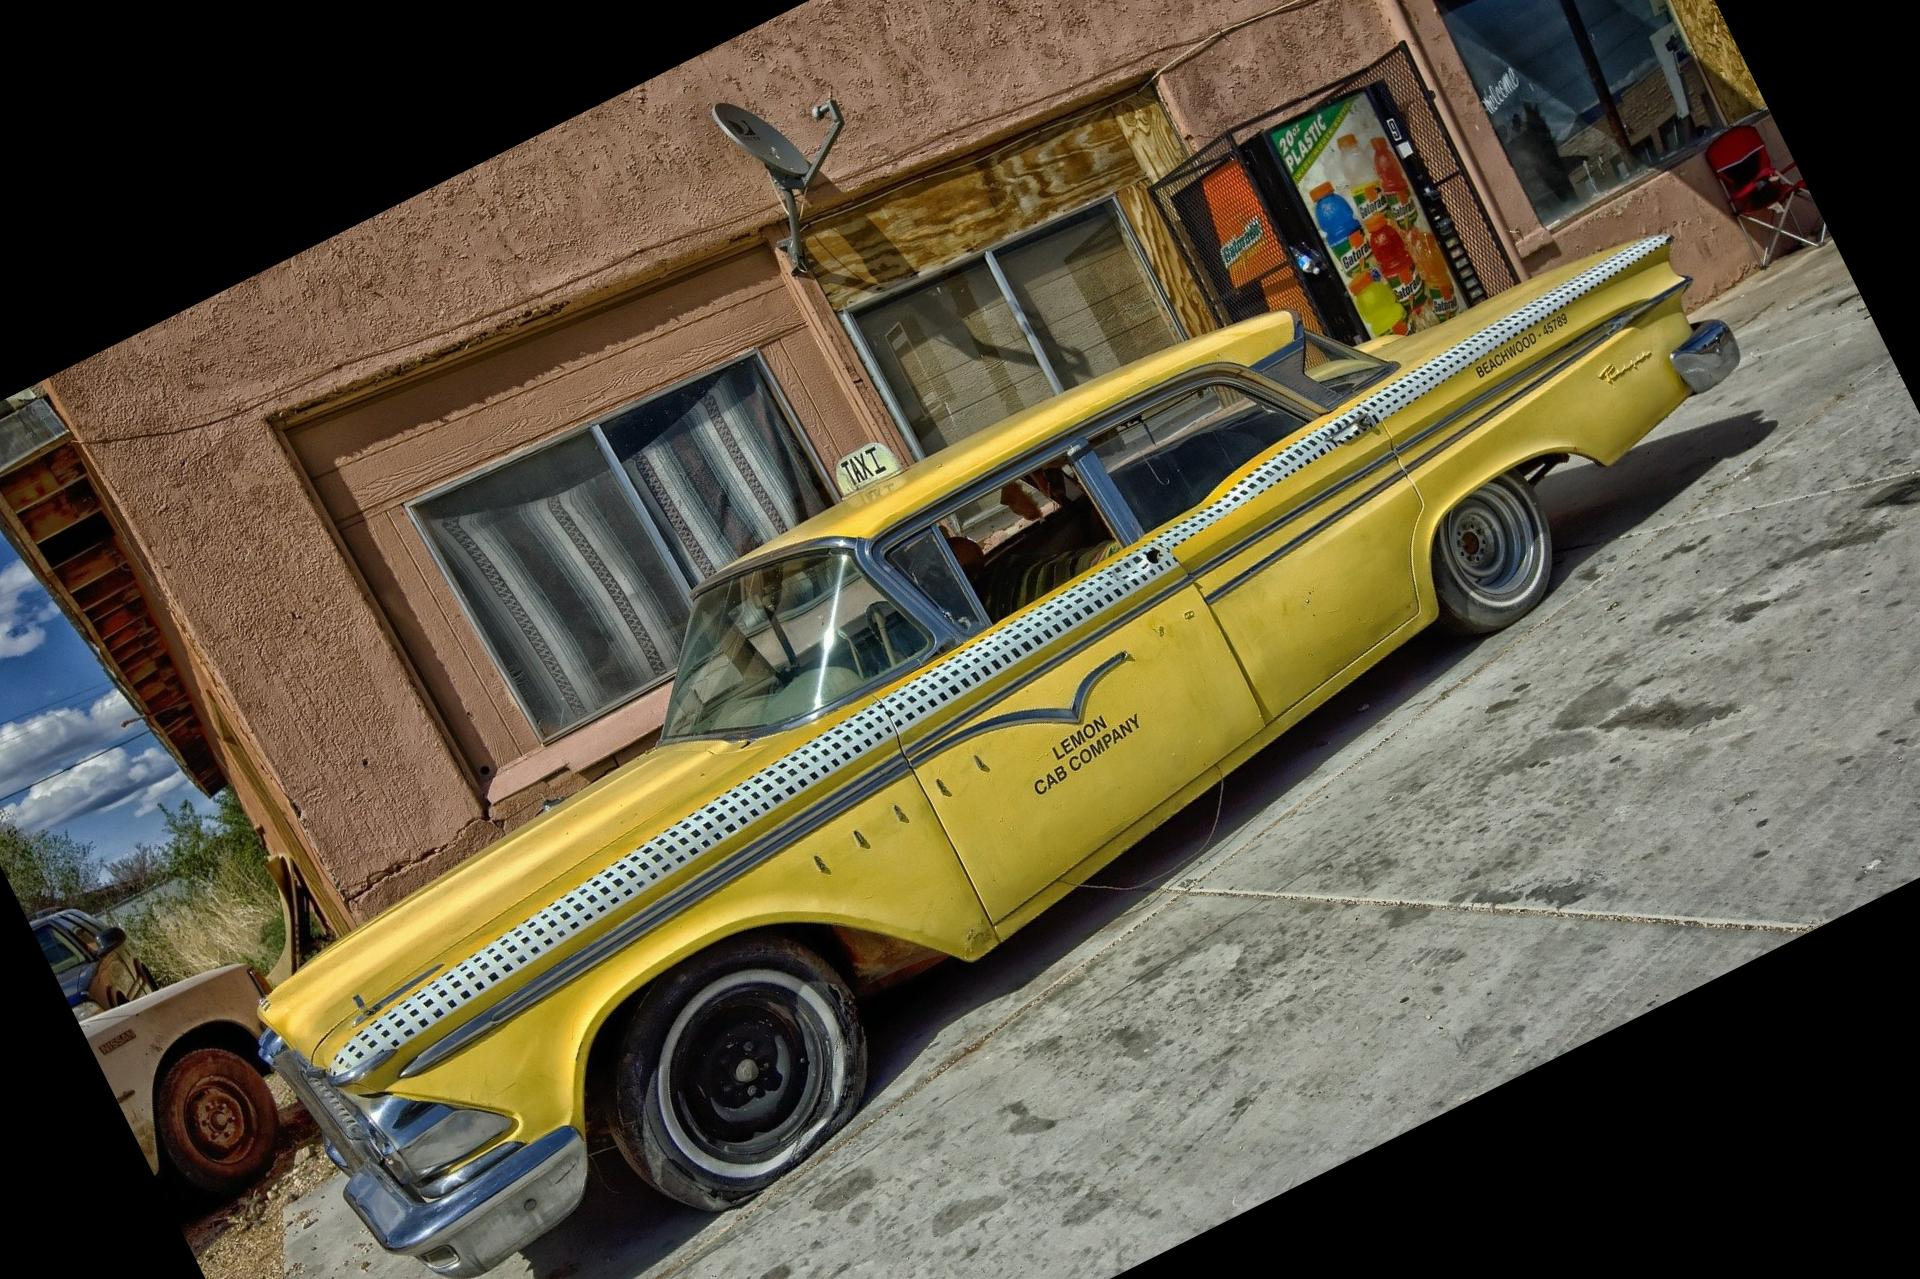taxi: (264, 228, 1762, 1262)
